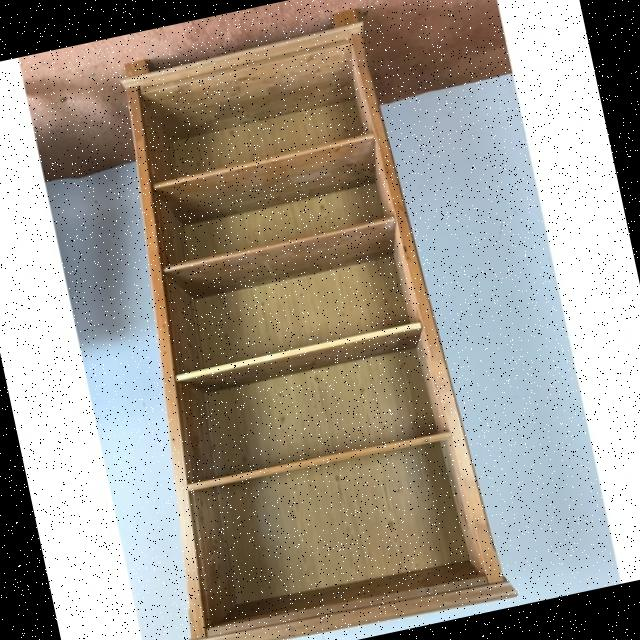Shelf: (49, 0, 526, 640)
